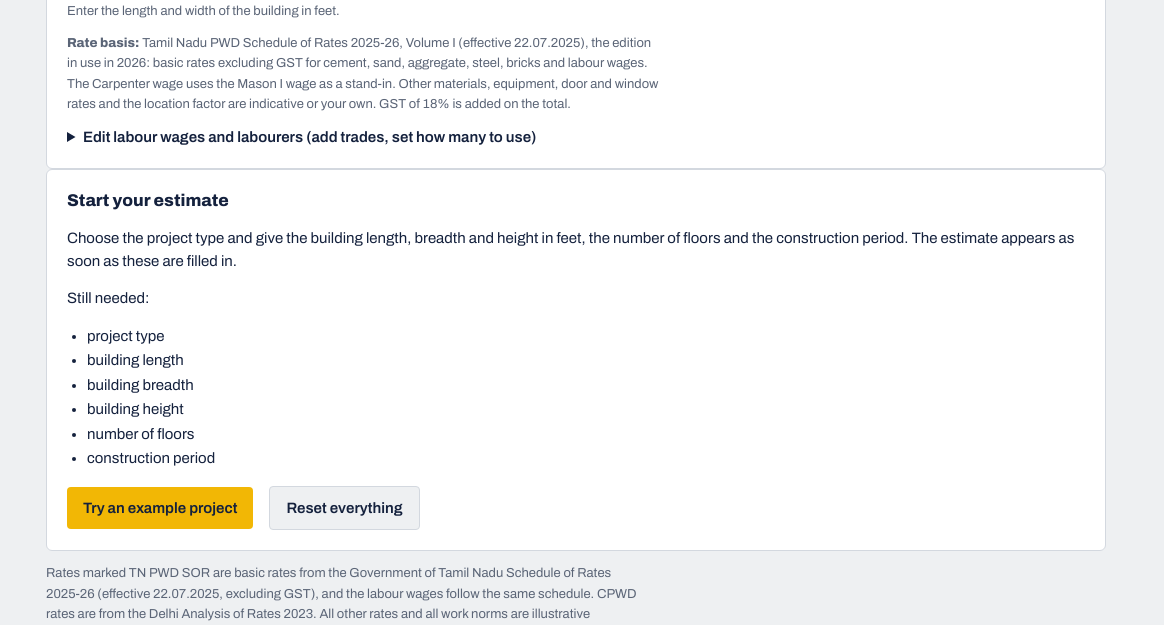
Scenario: App › reset everything needs two clicks and returns to the empty start
(page scrolled)
Click the button "Try an example project" at (160, 508), box [67,487,253,529]
(page scrolled)
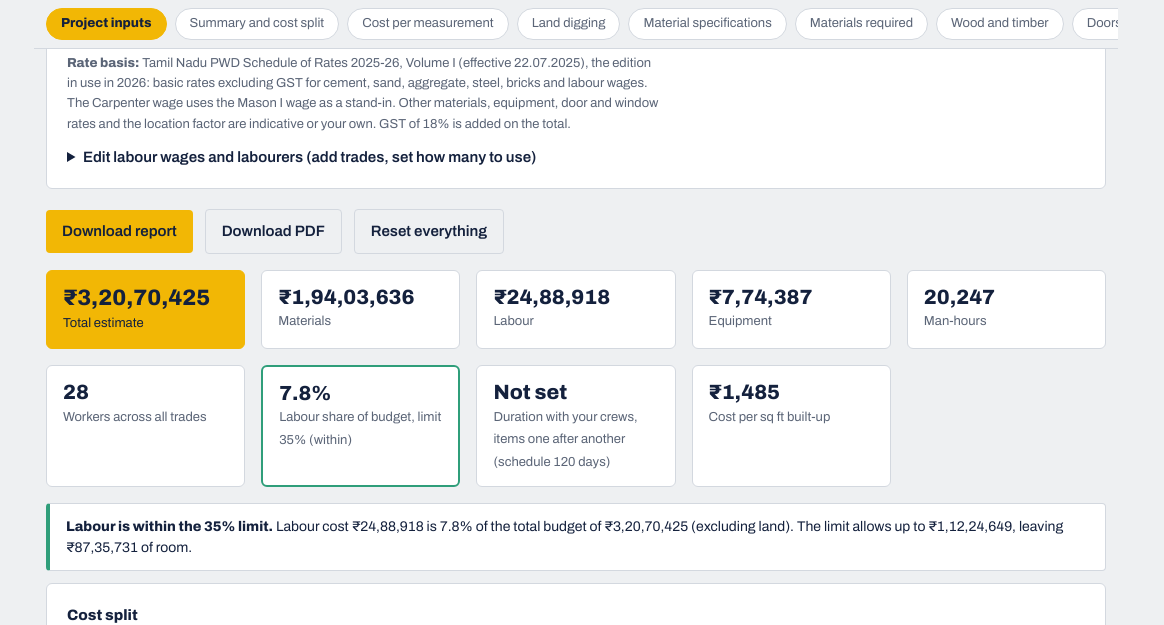
Click the button "Reset everything" at (429, 231), box [354,209,504,254]
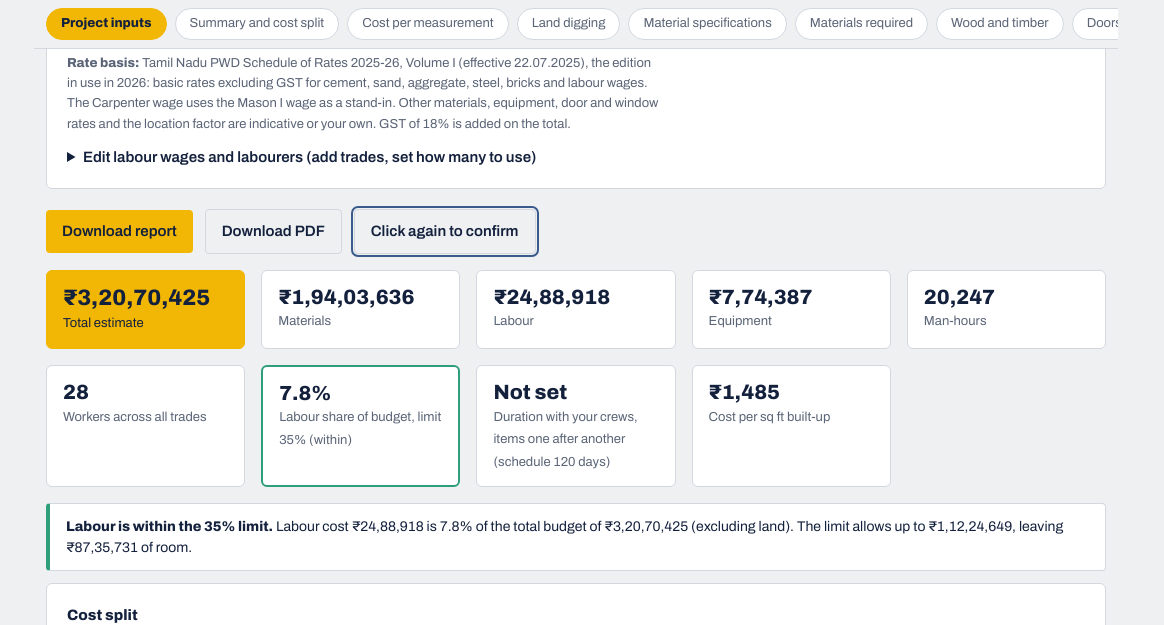
Result: the element with class "kpi" showing "₹3,20,70,425 Total estimate" is shown at [46,270,245,349]
Click the button "Click again to confirm" at (445, 231), box [354,209,536,254]
(page scrolled)
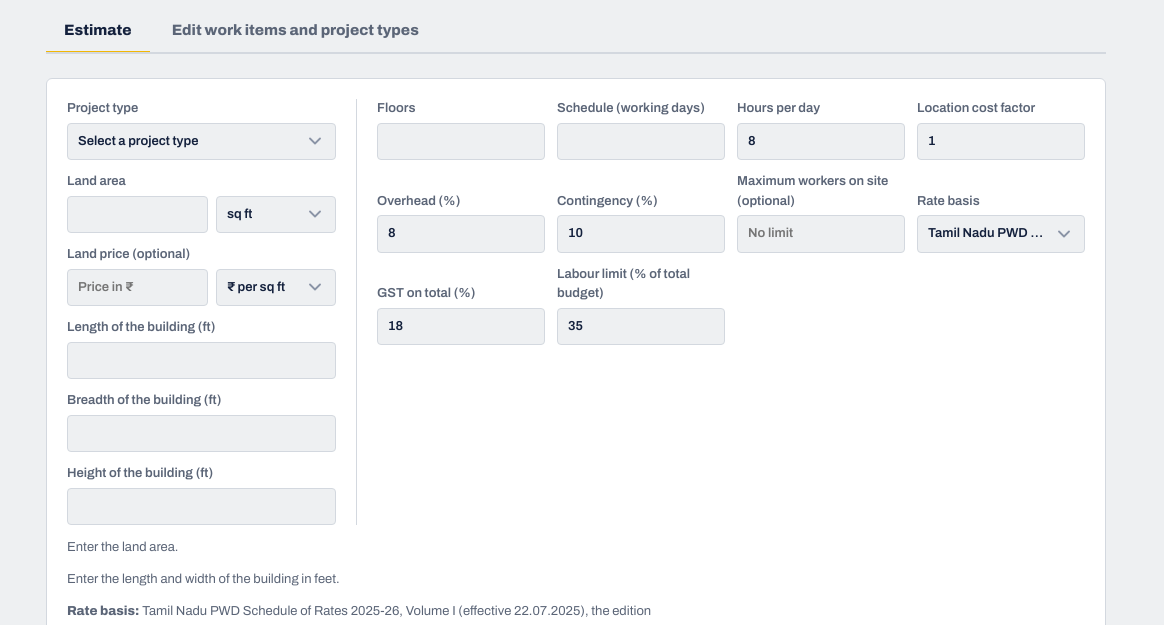
Result: the text "₹3,20,70,425 Total estimate" is gone
Result: the number field labelled "Length of the building" is not empty at [67,342,336,379]
